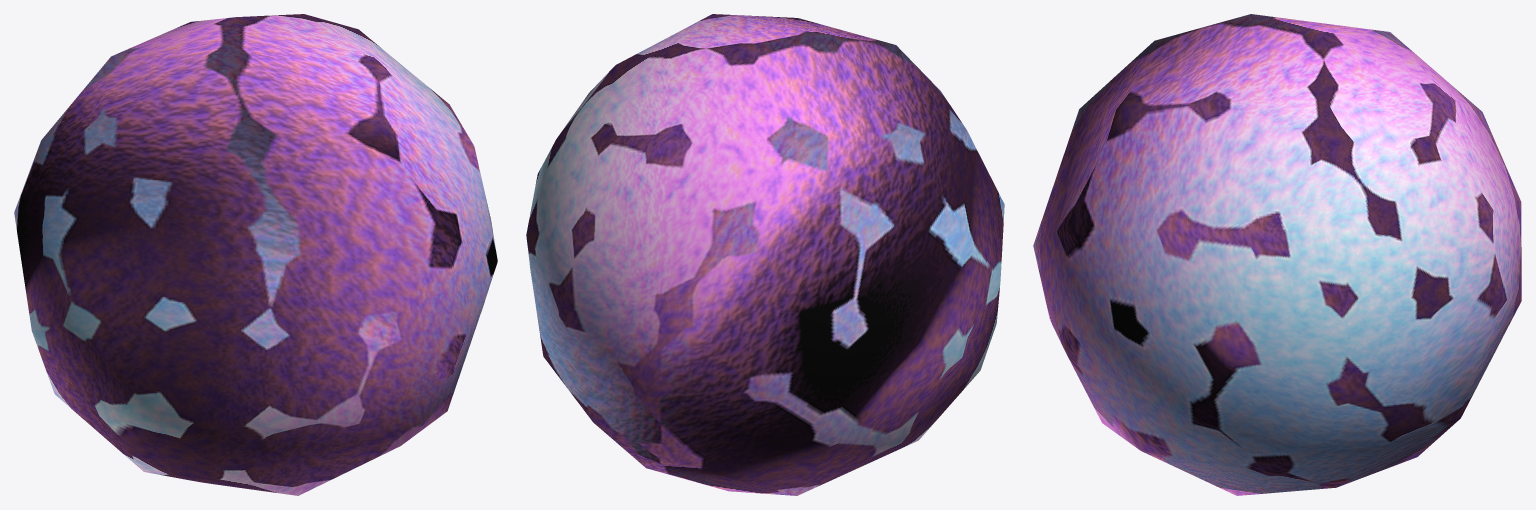
The model's file is ball.gltf.
The picture shows the model from 3 angles, left to right: view 1: azimuth 30°, elevation 25°; view 2: azimuth 150°, elevation 25°; view 3: azimuth 270°, elevation 25°; orthographic projection.
Parts seen in each view (by area): view 1: ballLowRes; view 2: ballLowRes; view 3: ballLowRes.
Part boxes in pixels (x1,y1,x2,y2): ballLowRes: (14, 14, 497, 495); ballLowRes: (526, 14, 1004, 495); ballLowRes: (1033, 14, 1521, 495).
Bounding box in the file's own units: 0.2085 × 0.2074 × 0.211.
1 material, 1 textured.
